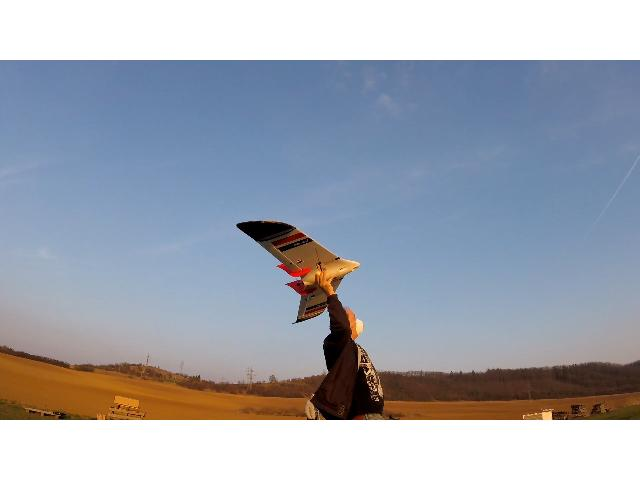Anti-Drone: (224, 205, 368, 327)
